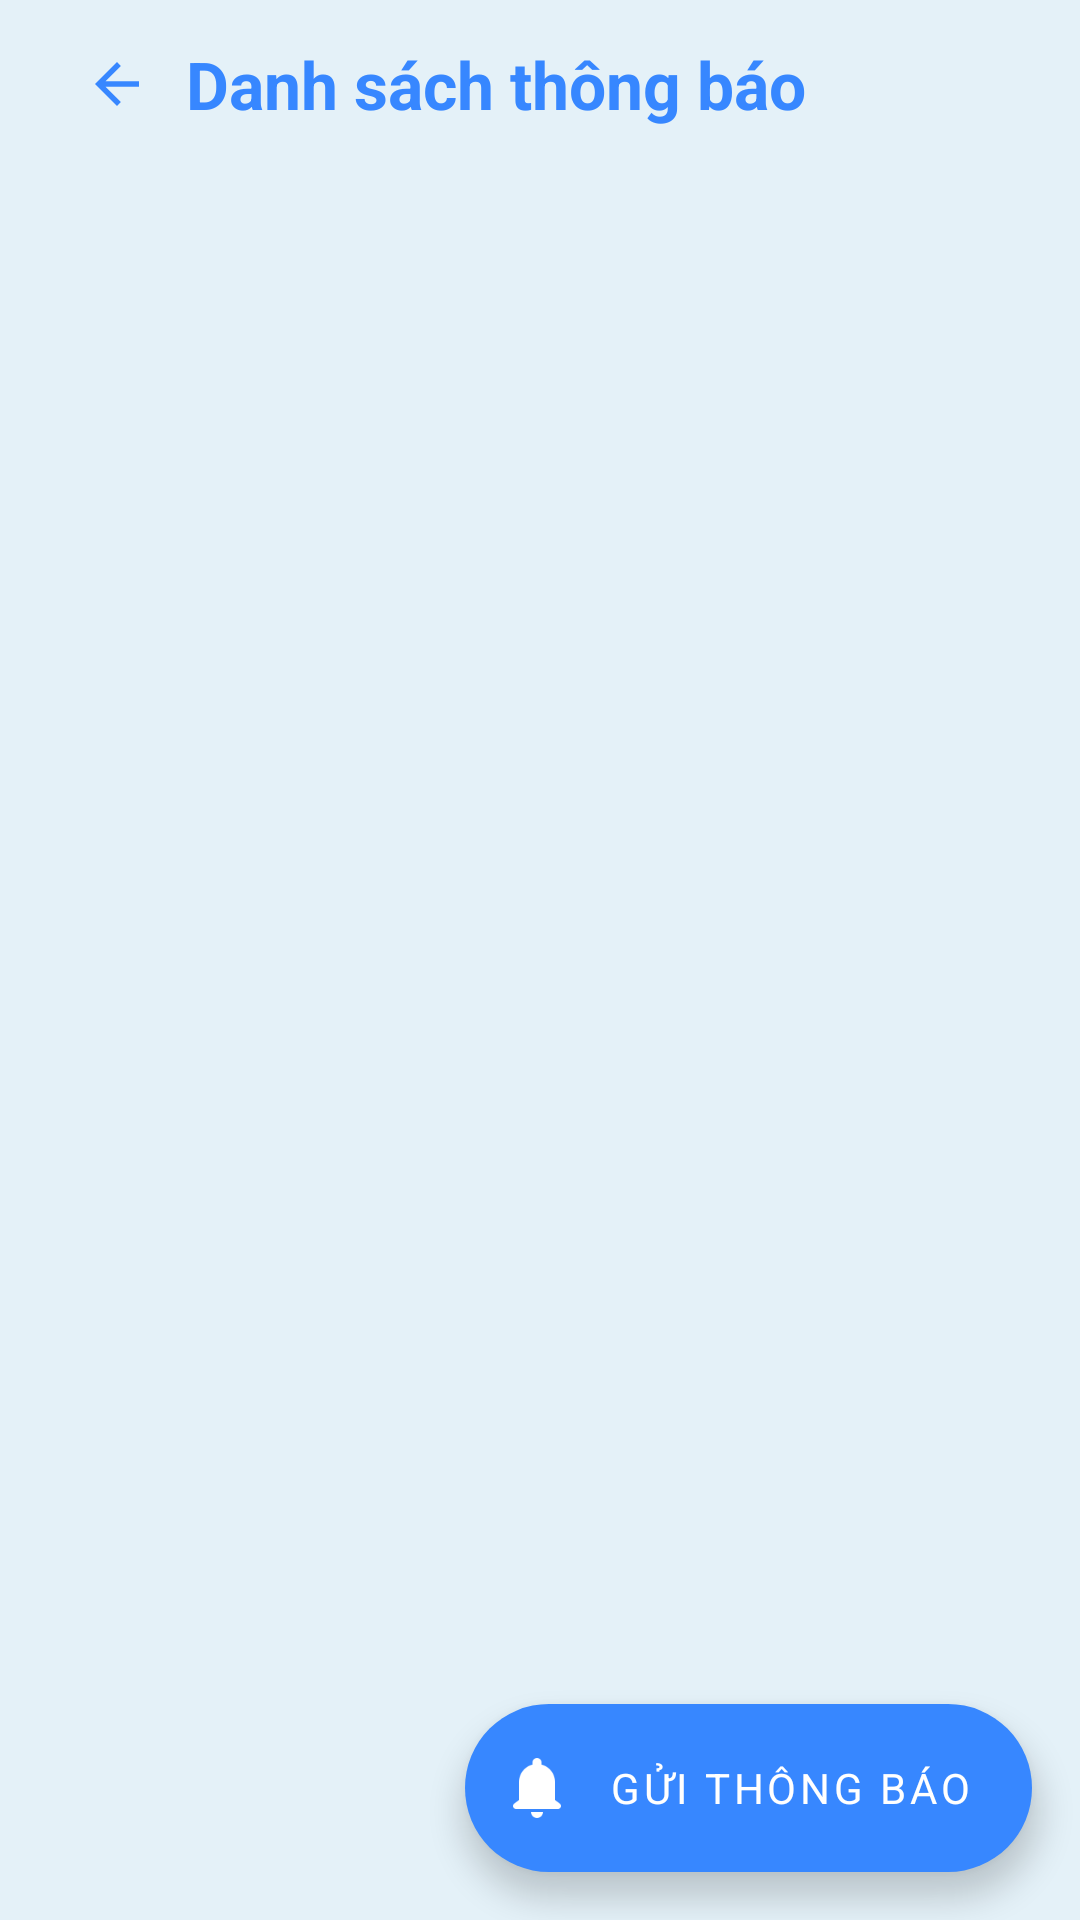

Icons on this 1080*1920 Android screen, each with its box as (x1, y1, x2, y2):
arrow back: (95, 62, 139, 106)
